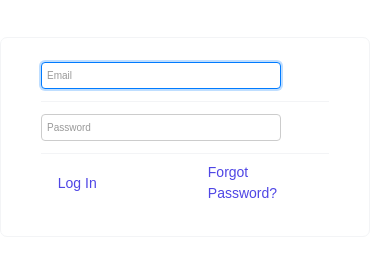
LoginForm › shows validation errors for invalid email
# Enter invalid email and submit form
Type "invalid-email@email" into the field with placeholder "Email" at (161, 75), box [41,62,281,89]
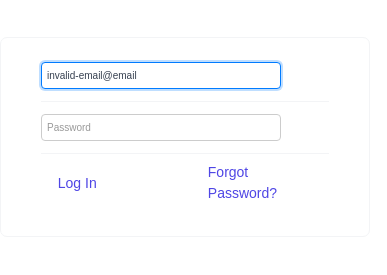
Click the button "Log In" at (110, 183), box [41,154,179,212]
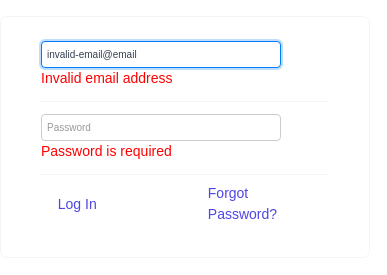
Now the text "Invalid email address" is shown, box [41,70,172,86]
